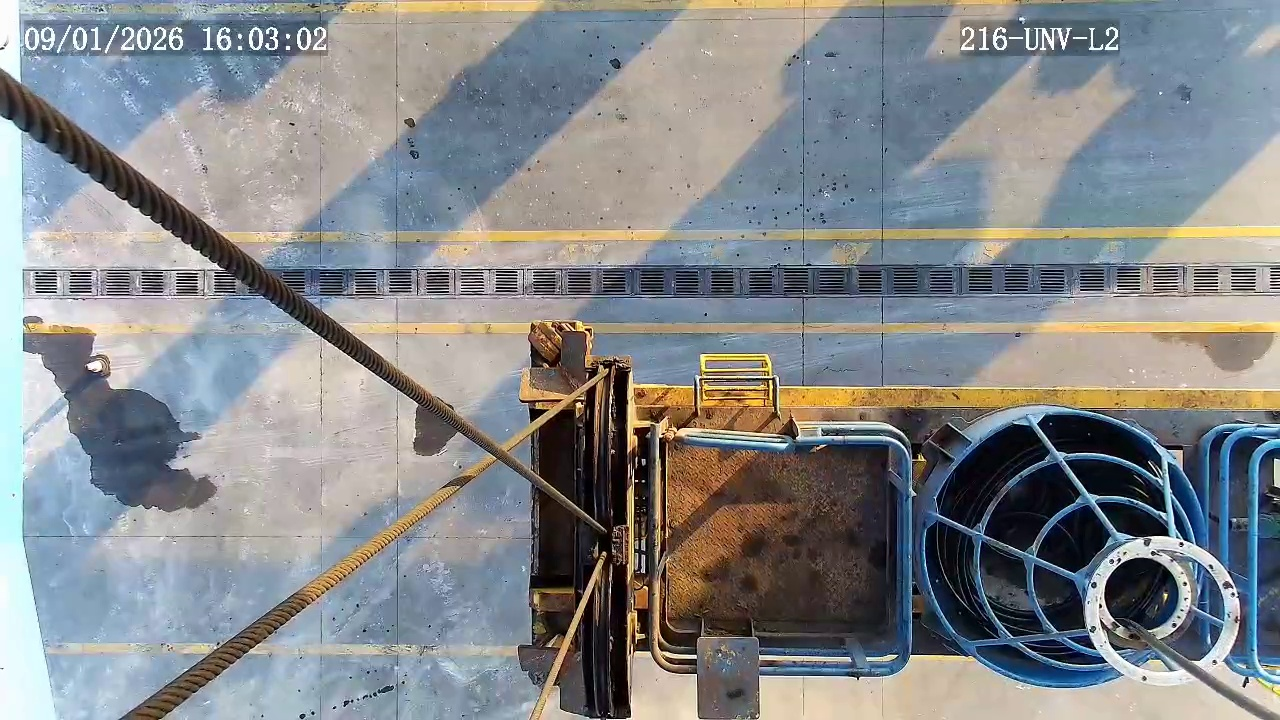left: (922, 410, 1207, 686)
